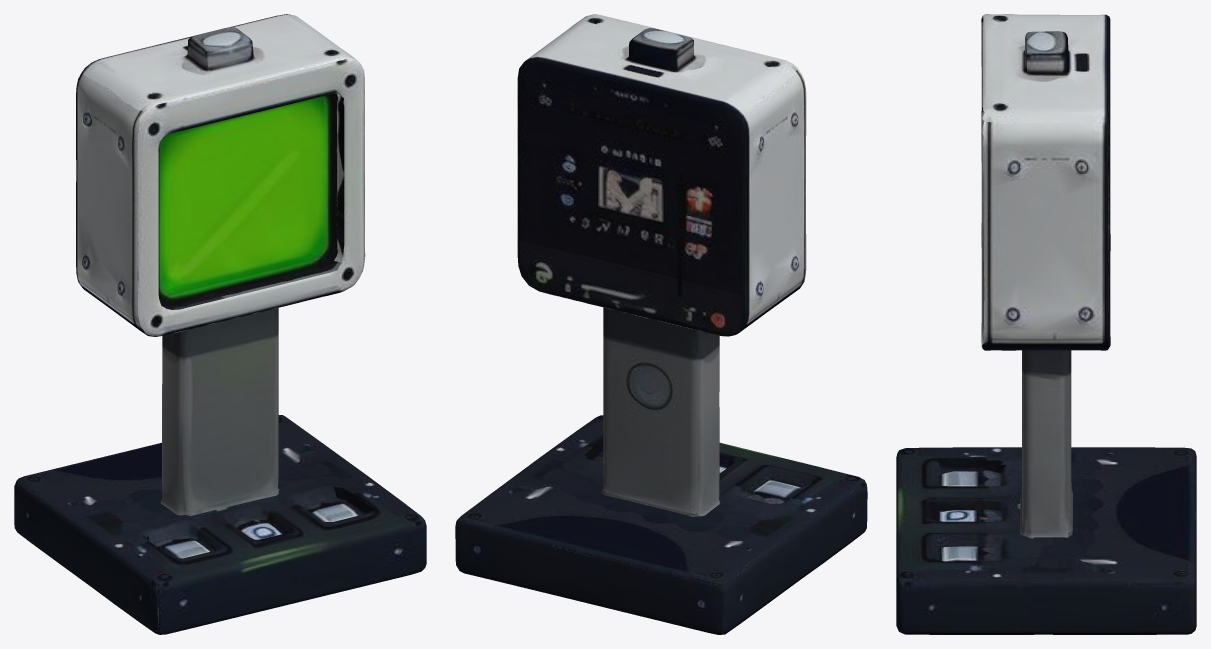
Rendered from charge_terminal.glb.
The picture shows the model from 3 angles, left to right: view 1: azimuth 30°, elevation 25°; view 2: azimuth 150°, elevation 25°; view 3: azimuth 270°, elevation 25°; orthographic projection. The views are drawn at different scales.
Visible parts, largest first — view 1: charge_terminal; view 2: charge_terminal; view 3: charge_terminal.
Part boxes in pixels (x1=…): charge_terminal: x1=14, y1=14, x2=426, y2=634; charge_terminal: x1=455, y1=14, x2=867, y2=634; charge_terminal: x1=896, y1=14, x2=1196, y2=634.
Bounding box in the file's own units: 0.5541 × 1 × 0.5161.
1 material, 1 textured.
